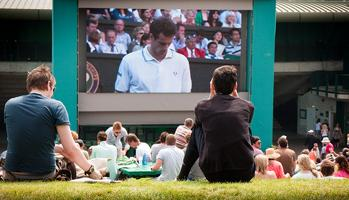person: (178, 66, 259, 183)
